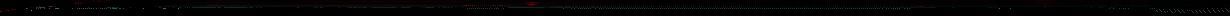Blue cone: (29, 7, 35, 8), (10, 9, 16, 10), (48, 6, 53, 7)
Yellow cone: (524, 2, 540, 6), (918, 6, 924, 8)
